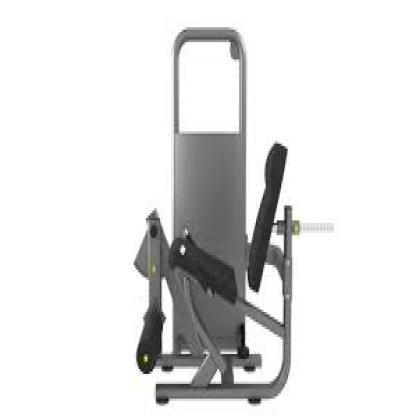leg extension: (130, 21, 303, 416)
